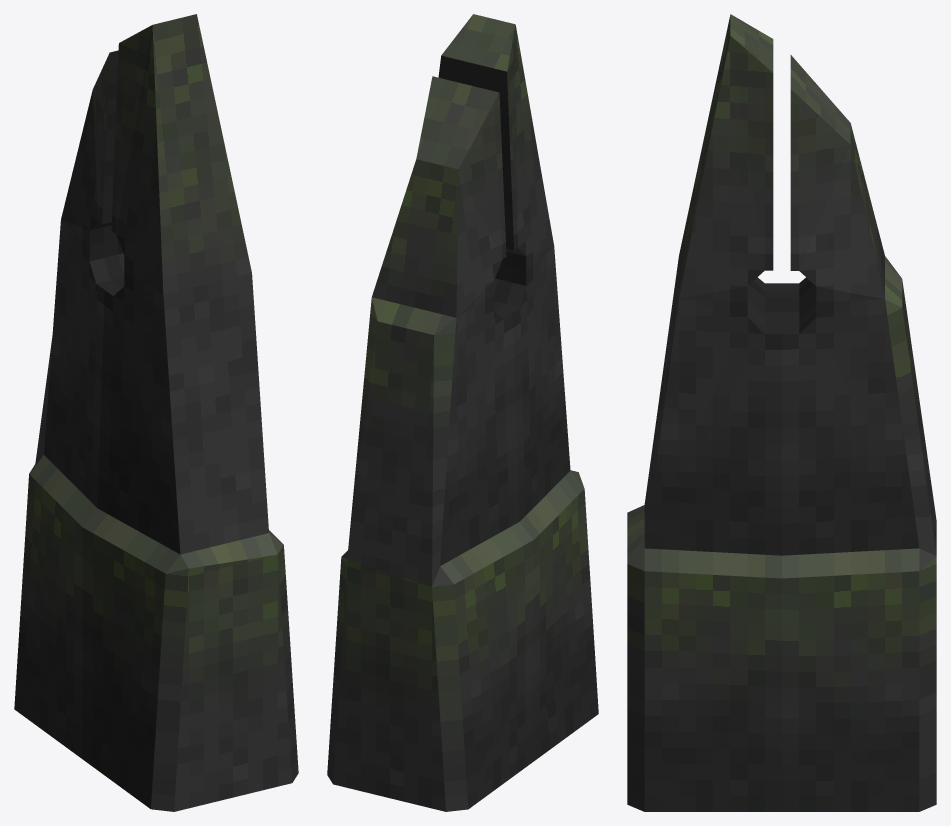
File: pylon.obj
The picture shows the model from 3 angles, left to right: view 1: azimuth 30°, elevation 25°; view 2: azimuth 150°, elevation 25°; view 3: azimuth 270°, elevation 25°; orthographic projection. The views are drawn at different scales.
Parts seen in each view (by area): view 1: Pylon_Cube.001; view 2: Pylon_Cube.001; view 3: Pylon_Cube.001.
Boxes of the visible parts, x1,y1,x2,y2 form: Pylon_Cube.001: (14, 14, 298, 811); Pylon_Cube.001: (327, 14, 598, 811); Pylon_Cube.001: (627, 14, 936, 811).
Size of the model in its own units: 0.625 by 3 by 1.12.
